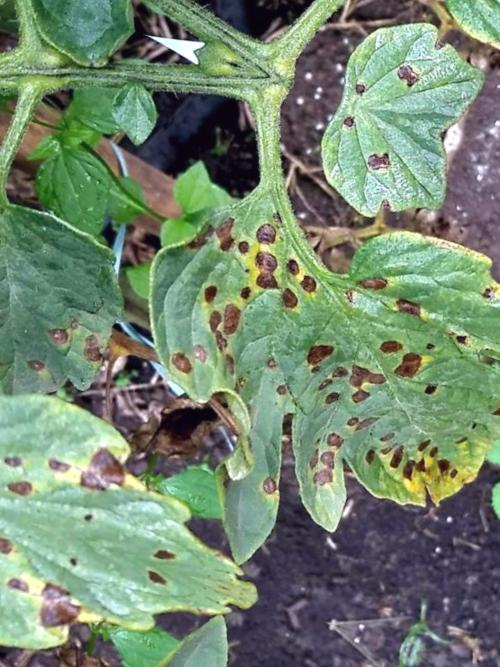Tomato Early blight leaf: (81, 188, 500, 637), (0, 156, 159, 442)
